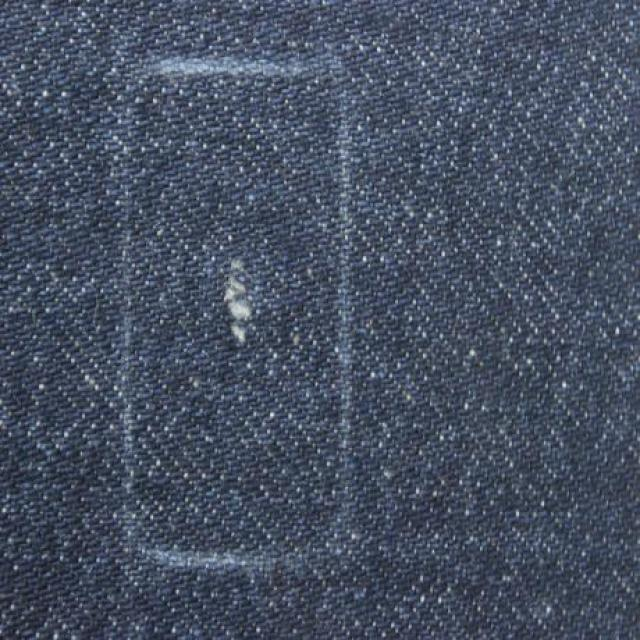stains: (164, 227, 306, 396)
